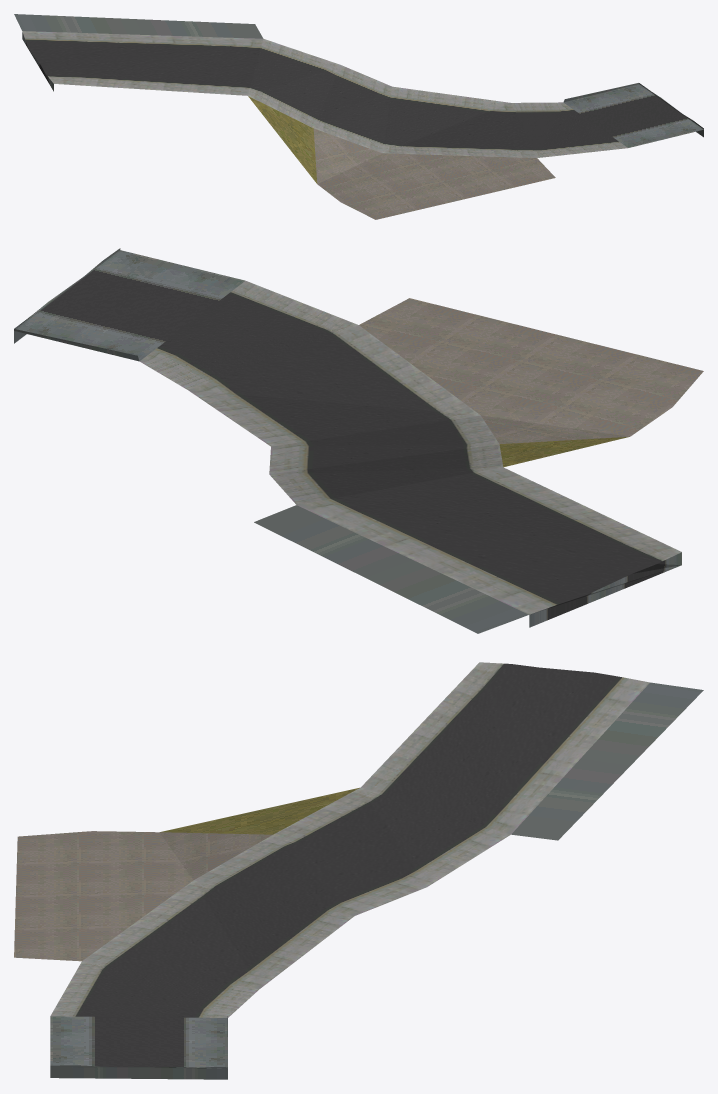
Rendered from lodroad27.obj.
The picture shows the model from 3 angles, top to bottom: view 1: azimuth 30°, elevation 25°; view 2: azimuth 150°, elevation 25°; view 3: azimuth 270°, elevation 25°; orthographic projection. The views are drawn at different scales.
Parts seen in each view (by area): view 1: LODroad27; view 2: LODroad27; view 3: LODroad27.
Part boxes in pixels (x1=…): LODroad27: x1=14, y1=14, x2=703, y2=219; LODroad27: x1=14, y1=248, x2=703, y2=633; LODroad27: x1=14, y1=662, x2=703, y2=1079.
Size of the model in its own units: 132 by 15.84 by 115.
4 materials, 4 textured.
